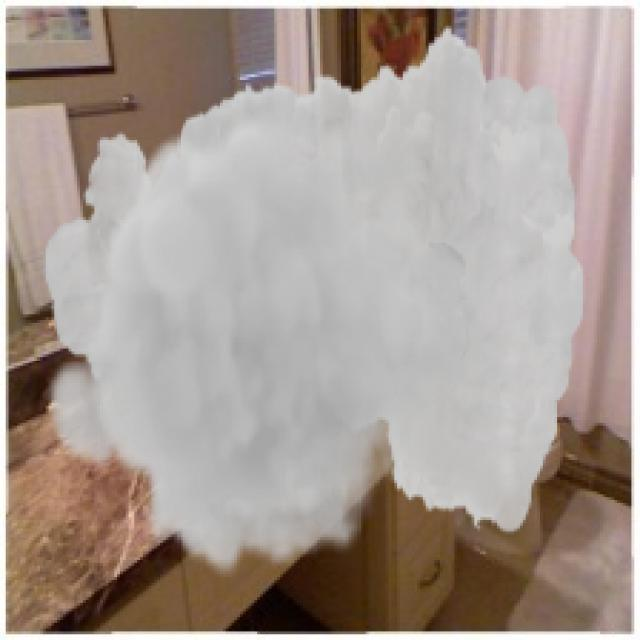Smoke: (43, 22, 586, 578)
